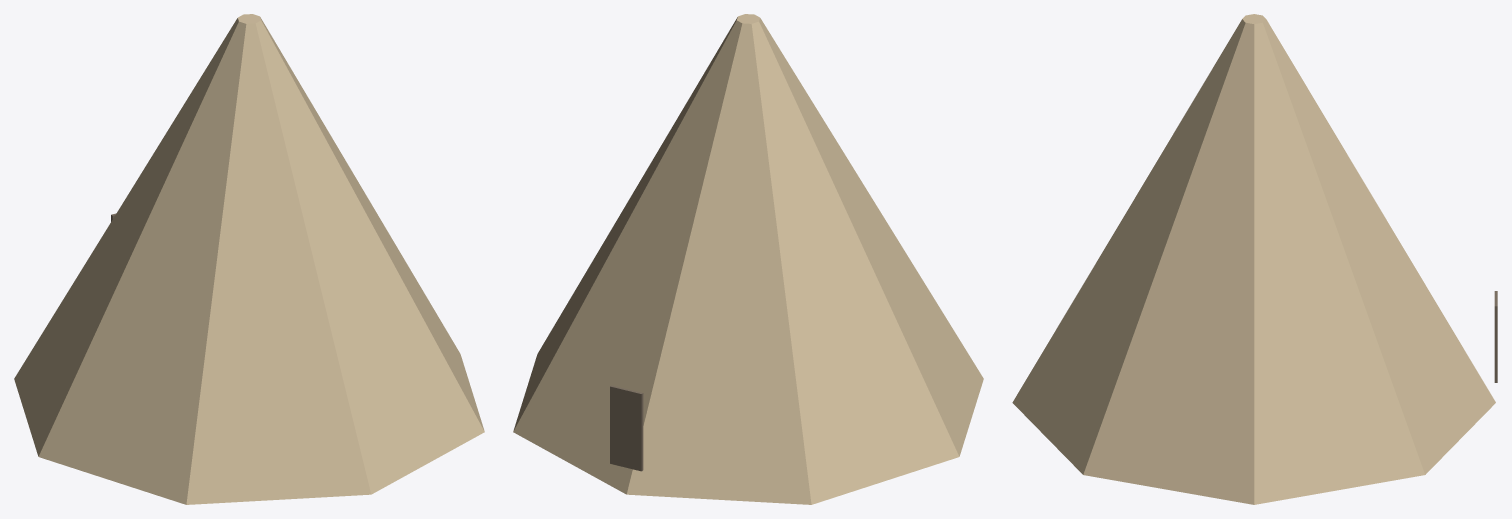
The model's file is lqv_lowpoly_typo_wigwam.glb.
3 renders of one model, left to right at view 1: azimuth 30°, elevation 25°; view 2: azimuth 150°, elevation 25°; view 3: azimuth 270°, elevation 25°, orthographic.
Visible parts, largest first — view 1: Typo_Wigwam; view 2: Typo_Wigwam, Cube; view 3: Typo_Wigwam.
Boxes of the visible parts, box(x1,y1,x2,y2) form: Typo_Wigwam: box(14, 14, 484, 504); Typo_Wigwam: box(513, 14, 983, 504); Cube: box(610, 385, 643, 471); Typo_Wigwam: box(1012, 14, 1495, 504).
Bounding box in the file's own units: 4 × 3.5 × 4.01.
